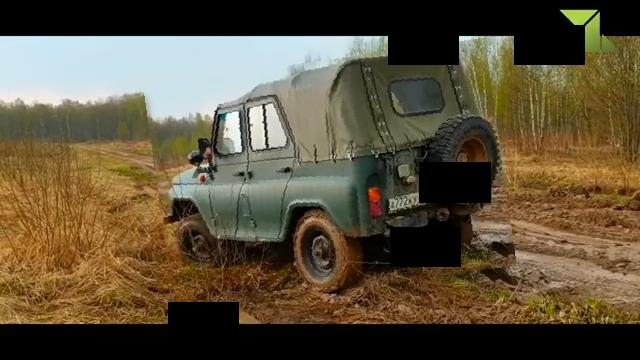MIL_HMMWV: (151, 50, 510, 302)
